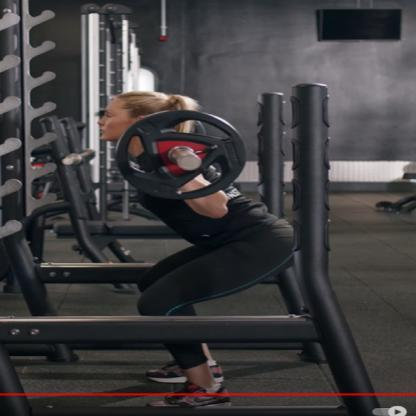Barbell: (175, 153, 207, 175)
